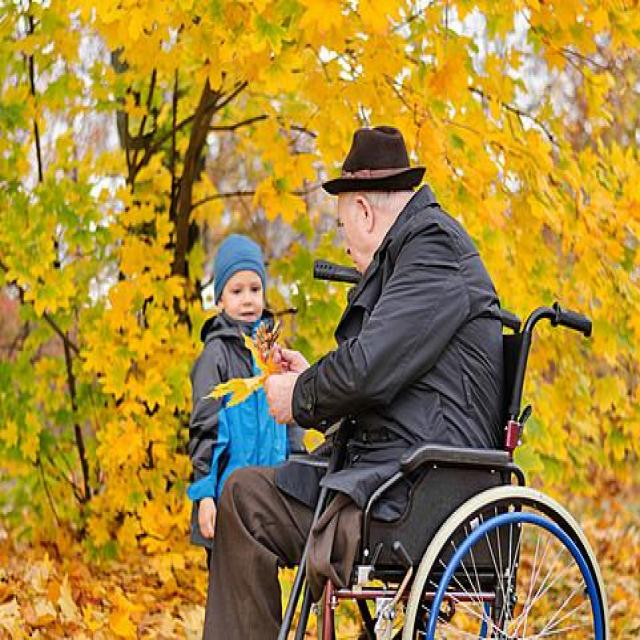wheelchairs: (264, 305, 612, 640)
